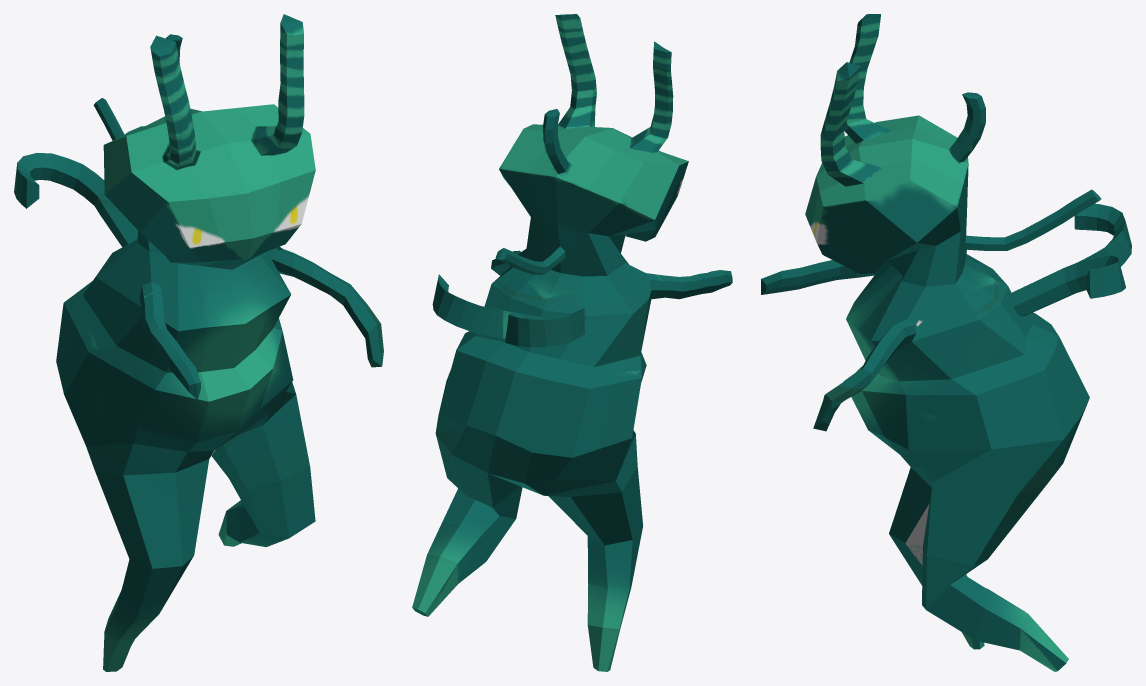
File: monstruo1_caminar_30.obj
3 views of the same model, side by side, from view 1: azimuth 30°, elevation 25°; view 2: azimuth 150°, elevation 25°; view 3: azimuth 270°, elevation 25° (orthographic). The views are drawn at different scales.
Parts seen in each view (by area): view 1: Monstruo_basico; view 2: Monstruo_basico; view 3: Monstruo_basico.
Part boxes in pixels (x1,y1,x2,y2): Monstruo_basico: [14, 14, 383, 671]; Monstruo_basico: [412, 14, 732, 671]; Monstruo_basico: [761, 14, 1131, 671].
Bounding box in the file's own units: 0.3678 × 1.02 × 0.5442.
